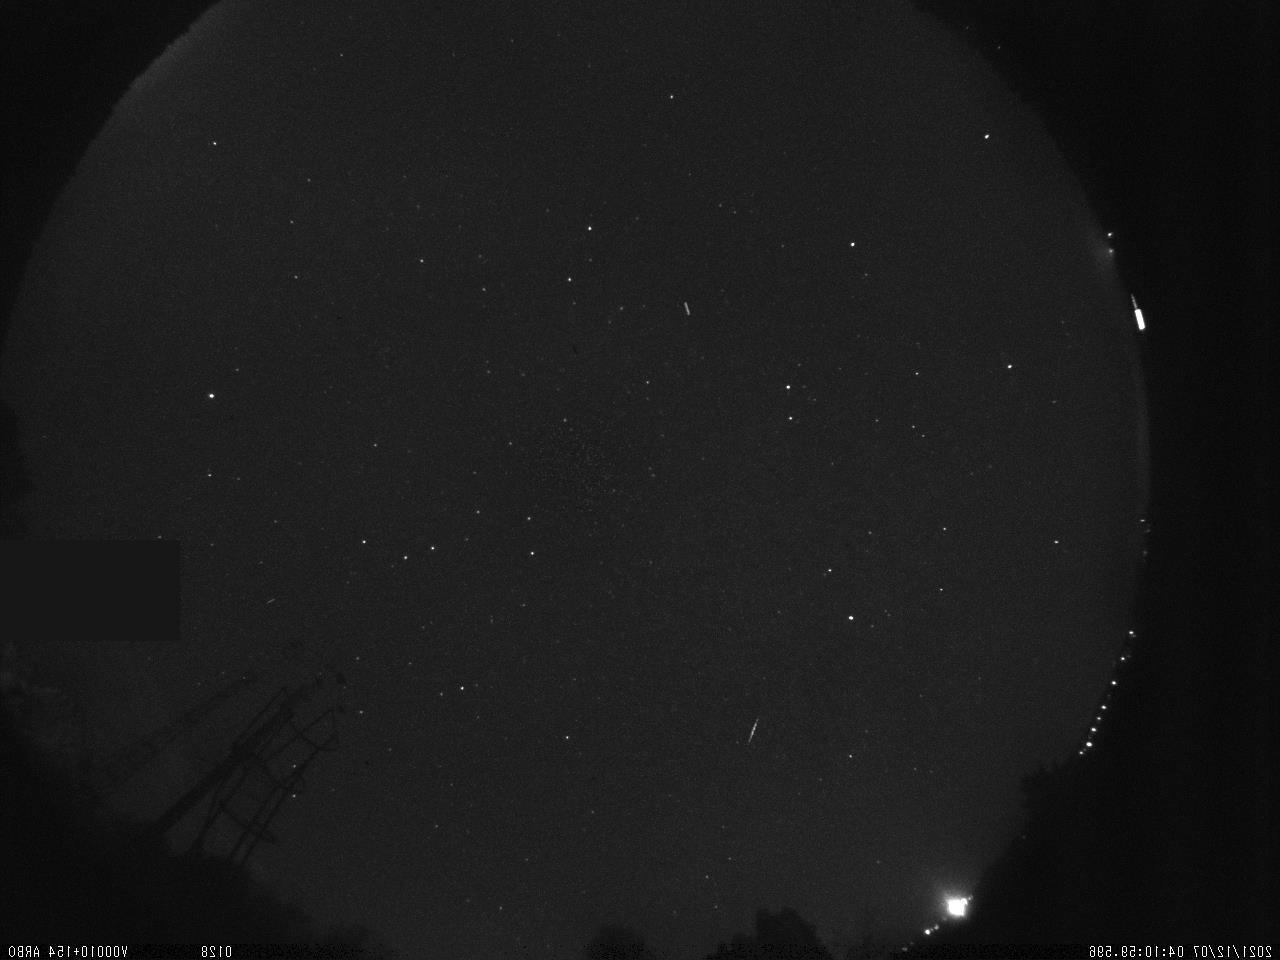meteor: (744, 707, 772, 759)
